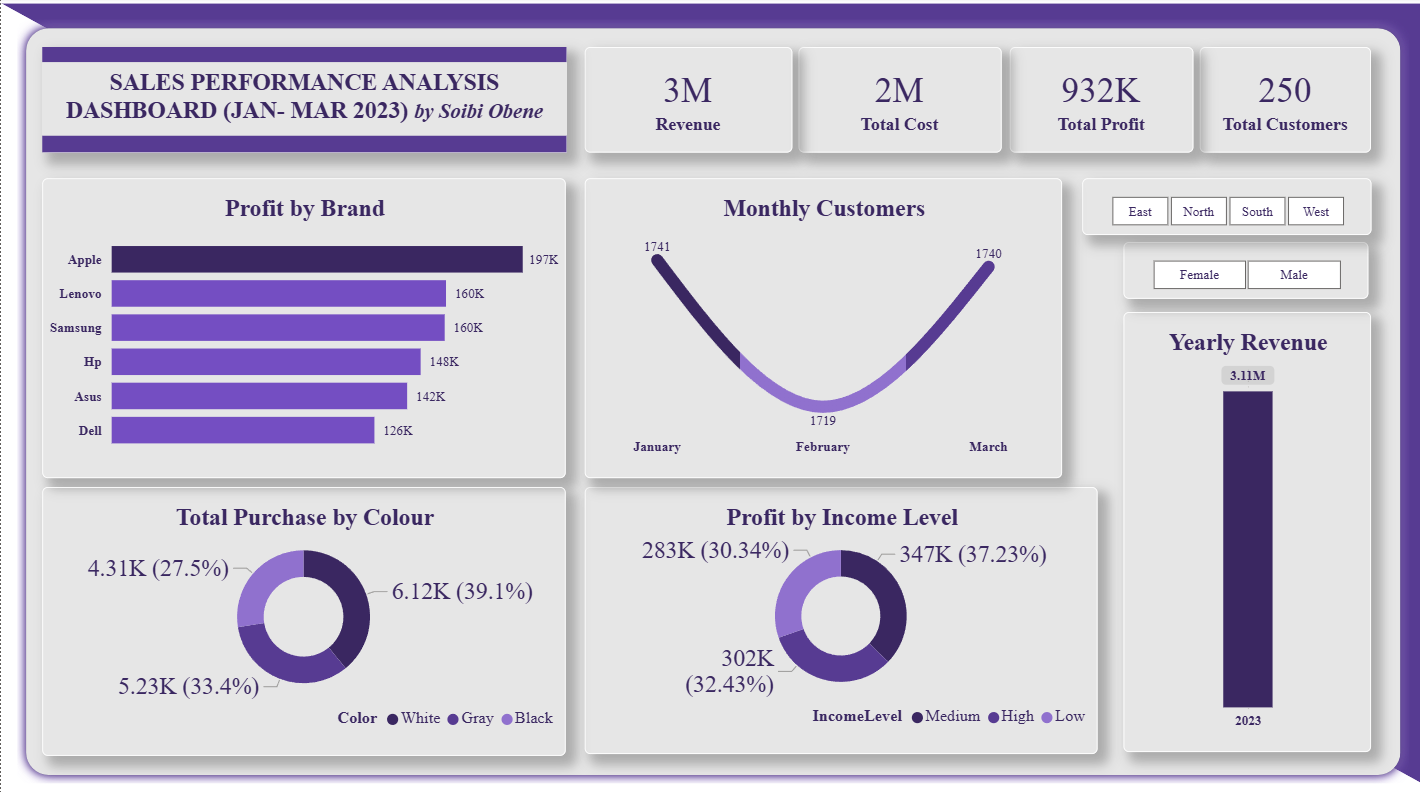

This screenshot's page, from the dashboard's own definition file:
{"tool":"powerbi","page":{"name":"Page 1","canvas":[1280,720],"ordinal":0},"visuals":[{"type":"shape","box":[0,5.7,1280,702.9],"z":0},{"type":"shape","box":[14.9,19.9,1255.2,689.2],"z":1000},{"type":"card","title":"Total Customer","fields":{"Values":["CountNonNull(Customers.CustomerID)"]},"box":[1081.2,45,154.7,95.5],"z":2000},{"type":"card","title":"Total Profit","fields":{"Values":["Sum(Sales.Profit)"]},"box":[909.1,45,165.4,95.5],"z":3000},{"type":"card","title":"Total COGS","fields":{"Values":["Sum(Sales.COGS)"]},"box":[719.5,45,182.9,95.5],"z":4000},{"type":"card","title":"Total Revenue","fields":{"Values":["Sum(Sales.Revenue)"]},"box":[525.8,45,186.9,95.5],"z":5000},{"type":"textbox","box":[37.3,44.5,472.7,95.8],"z":6000},{"type":"shape","box":[37.3,125.6,472.7,14.9],"z":7000},{"type":"shape","box":[37.3,44.5,472.7,13.7],"z":8000},{"type":"clusteredBarChart","title":"Profit by Brand","fields":{"Category":["Products.Brand"],"Y":["Sum(Sales.Profit)"]},"box":[37.7,163.3,472,270.3],"z":9000},{"type":"donutChart","title":"Total Purchase by Colour","fields":{"Category":["Products.Color"],"Y":["Sum(Sales.Quantity)"]},"box":[37.7,441.7,472,242.1],"z":10000},{"type":"slicer","fields":{"Values":["Customers.Gender"]},"box":[1012.7,221.2,220.6,51.1],"z":11000},{"type":"slicer","fields":{"Values":["Customers.Region"]},"box":[975,163.3,260.9,51.1],"z":12000},{"type":"donutChart","title":"Profit by Income Level","fields":{"Category":["Customers.IncomeLevel"],"Y":["Sum(Sales.Profit)"]},"box":[525.8,441.7,462.6,240.7],"z":13000},{"type":"lineChart","title":"Monthly Revenue","fields":{"Category":["Sales.SaleDate.Variation.Date Hierarchy.Month"],"Y":["Sum(Sales.Revenue)"]},"box":[1003.9,284.9,232.6,396.8],"z":14000},{"type":"lineChart","title":"Monthly Customers","fields":{"Category":["Sales.SaleDate.Variation.Date Hierarchy.Month"],"Y":["CountNonNull(Sales.CustomerID)"]},"box":[525.8,163.3,430.3,270.3],"z":15000}]}

Visuals, with their boxes in screenshot pixels (x1, y1, x2, y2), scaled from the page's 1280x720 canvas onto the 1420x792 screenshot:
shape: bbox=(0, 6, 1419, 779)
shape: bbox=(17, 22, 1409, 780)
"Total Customer" card: bbox=(1199, 50, 1371, 155)
"Total Profit" card: bbox=(1009, 50, 1192, 155)
"Total COGS" card: bbox=(798, 50, 1001, 155)
"Total Revenue" card: bbox=(583, 50, 791, 155)
textbox: bbox=(41, 49, 566, 154)
shape: bbox=(41, 138, 566, 155)
shape: bbox=(41, 49, 566, 64)
"Profit by Brand" clusteredBarChart: bbox=(42, 180, 565, 477)
"Total Purchase by Colour" donutChart: bbox=(42, 486, 565, 752)
slicer - Customers.Gender: bbox=(1123, 243, 1368, 300)
slicer - Customers.Region: bbox=(1082, 180, 1371, 236)
"Profit by Income Level" donutChart: bbox=(583, 486, 1097, 751)
"Monthly Revenue" lineChart: bbox=(1114, 313, 1372, 750)
"Monthly Customers" lineChart: bbox=(583, 180, 1061, 477)
